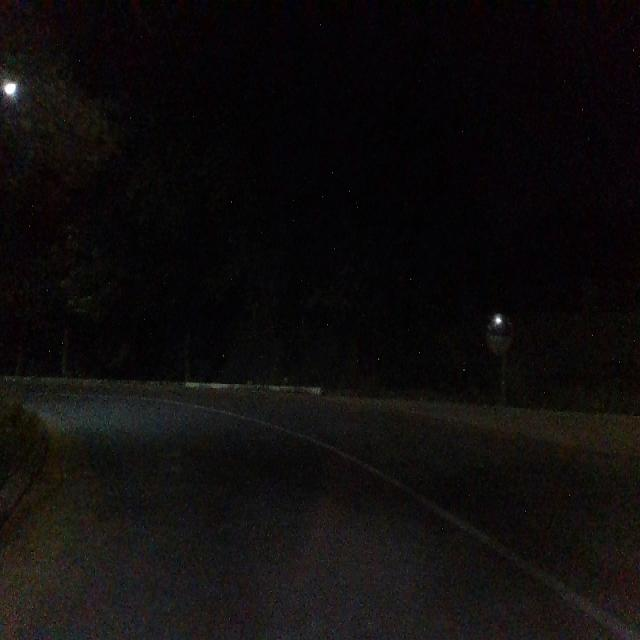lane: (0, 396, 627, 640)
